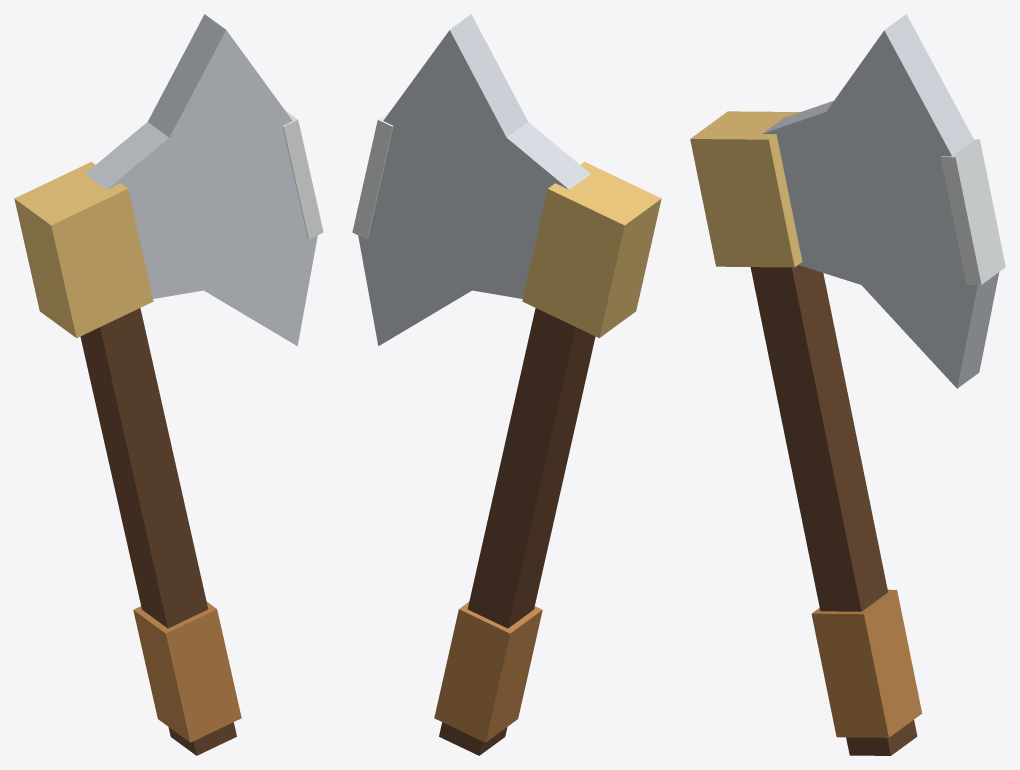
File: Hatchet.obj
3 renders of one model, left to right at view 1: azimuth 30°, elevation 25°; view 2: azimuth 150°, elevation 25°; view 3: azimuth 330°, elevation 25°, orthographic. The views are drawn at different scales.
Bounding box in the file's own units: 1.48 × 3.64 × 0.34.
